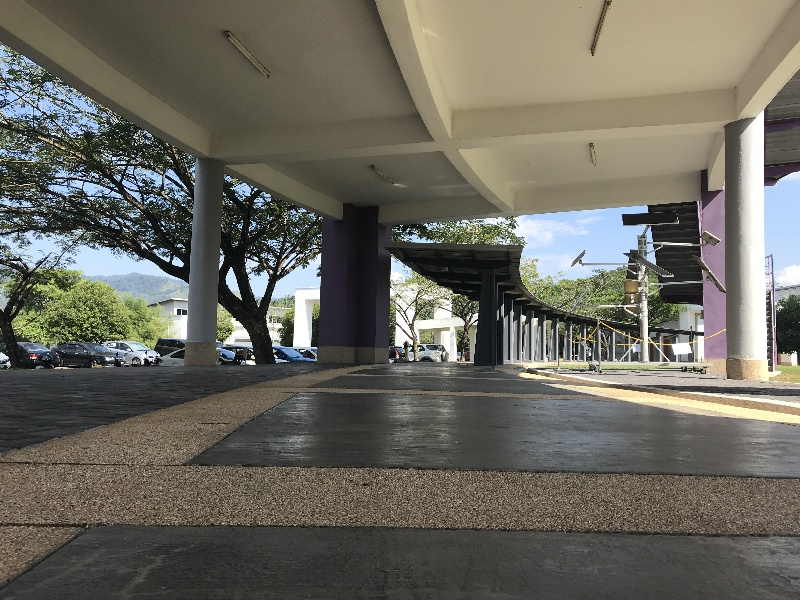Block D Pillar 4: (7, 6, 800, 555)
pillar: (302, 202, 413, 367), (716, 120, 780, 387), (173, 144, 230, 372), (692, 166, 744, 373), (461, 269, 508, 370)
